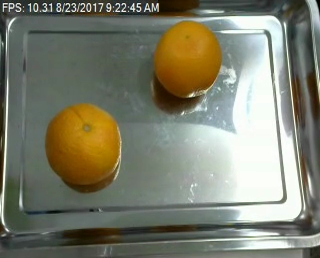Orange: (44, 102, 121, 186), (154, 18, 222, 98)
